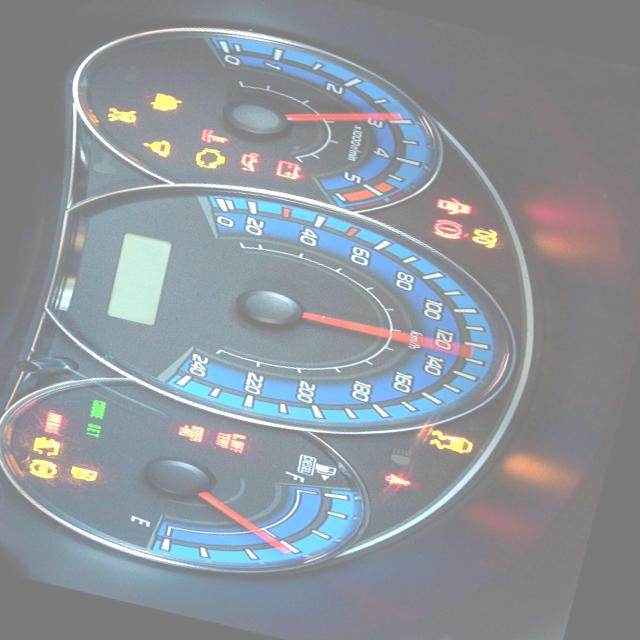kontrolka: (420, 422, 482, 462), (92, 99, 144, 133), (466, 220, 505, 255), (425, 213, 469, 244), (270, 154, 307, 186), (61, 459, 103, 487), (192, 123, 232, 151), (19, 454, 59, 482), (189, 144, 227, 172), (232, 146, 265, 178)
